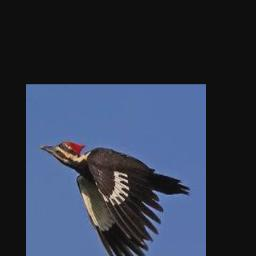Woodpecker: (40, 140, 191, 256)
